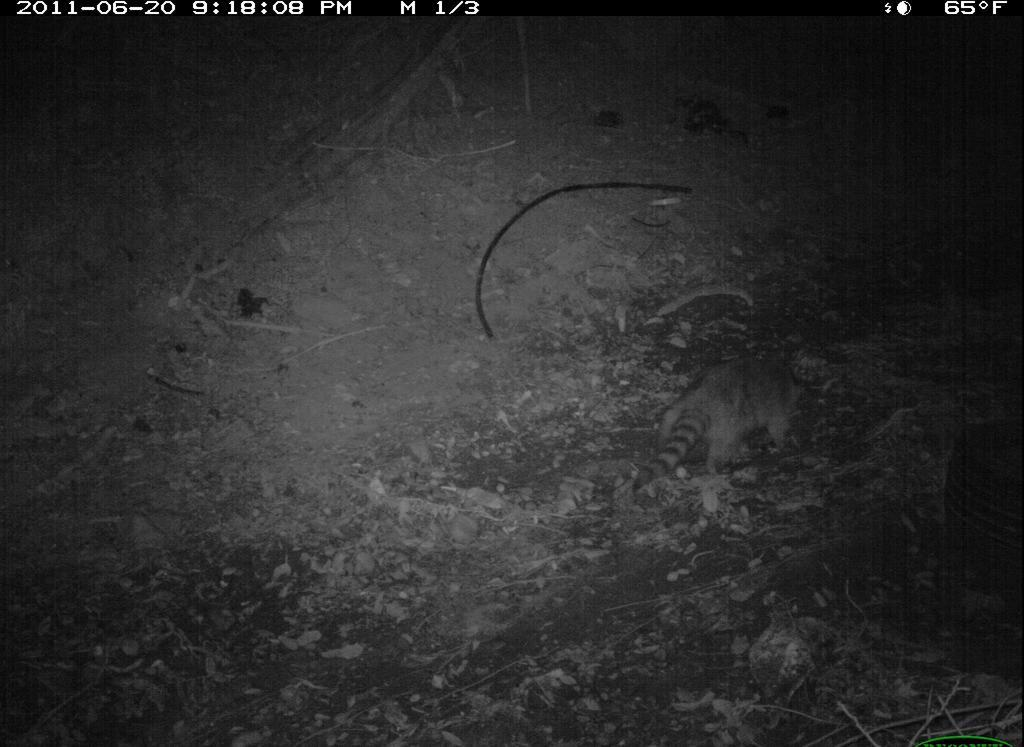raccoon: (625, 354, 817, 500)
